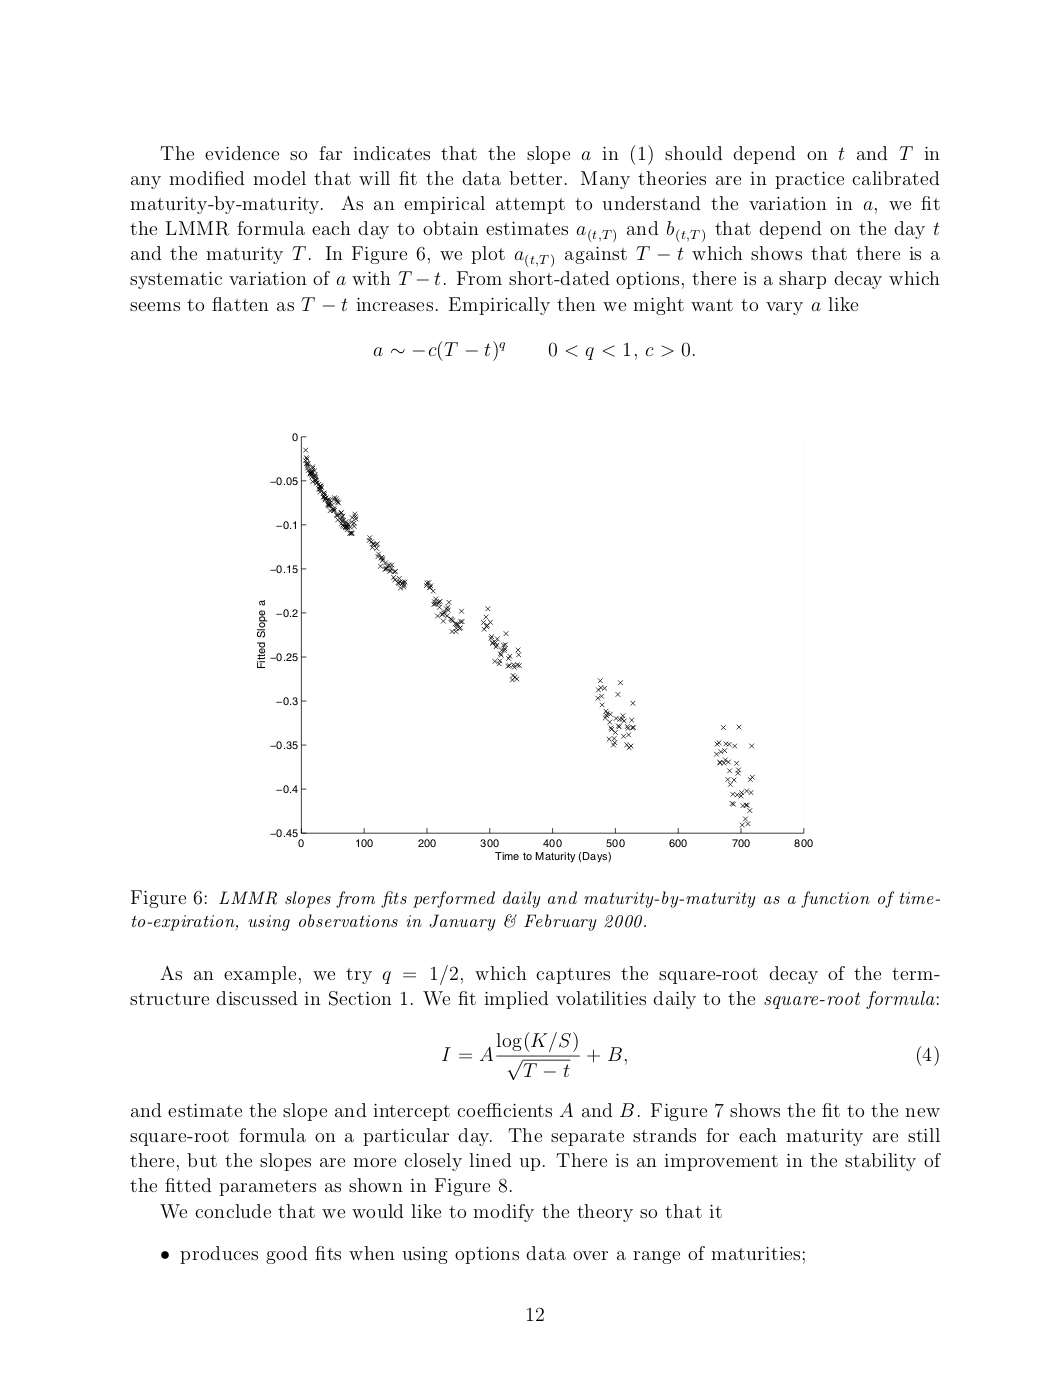figure: (256, 434, 812, 861)
formula: (441, 1031, 938, 1081), (373, 340, 694, 361)
